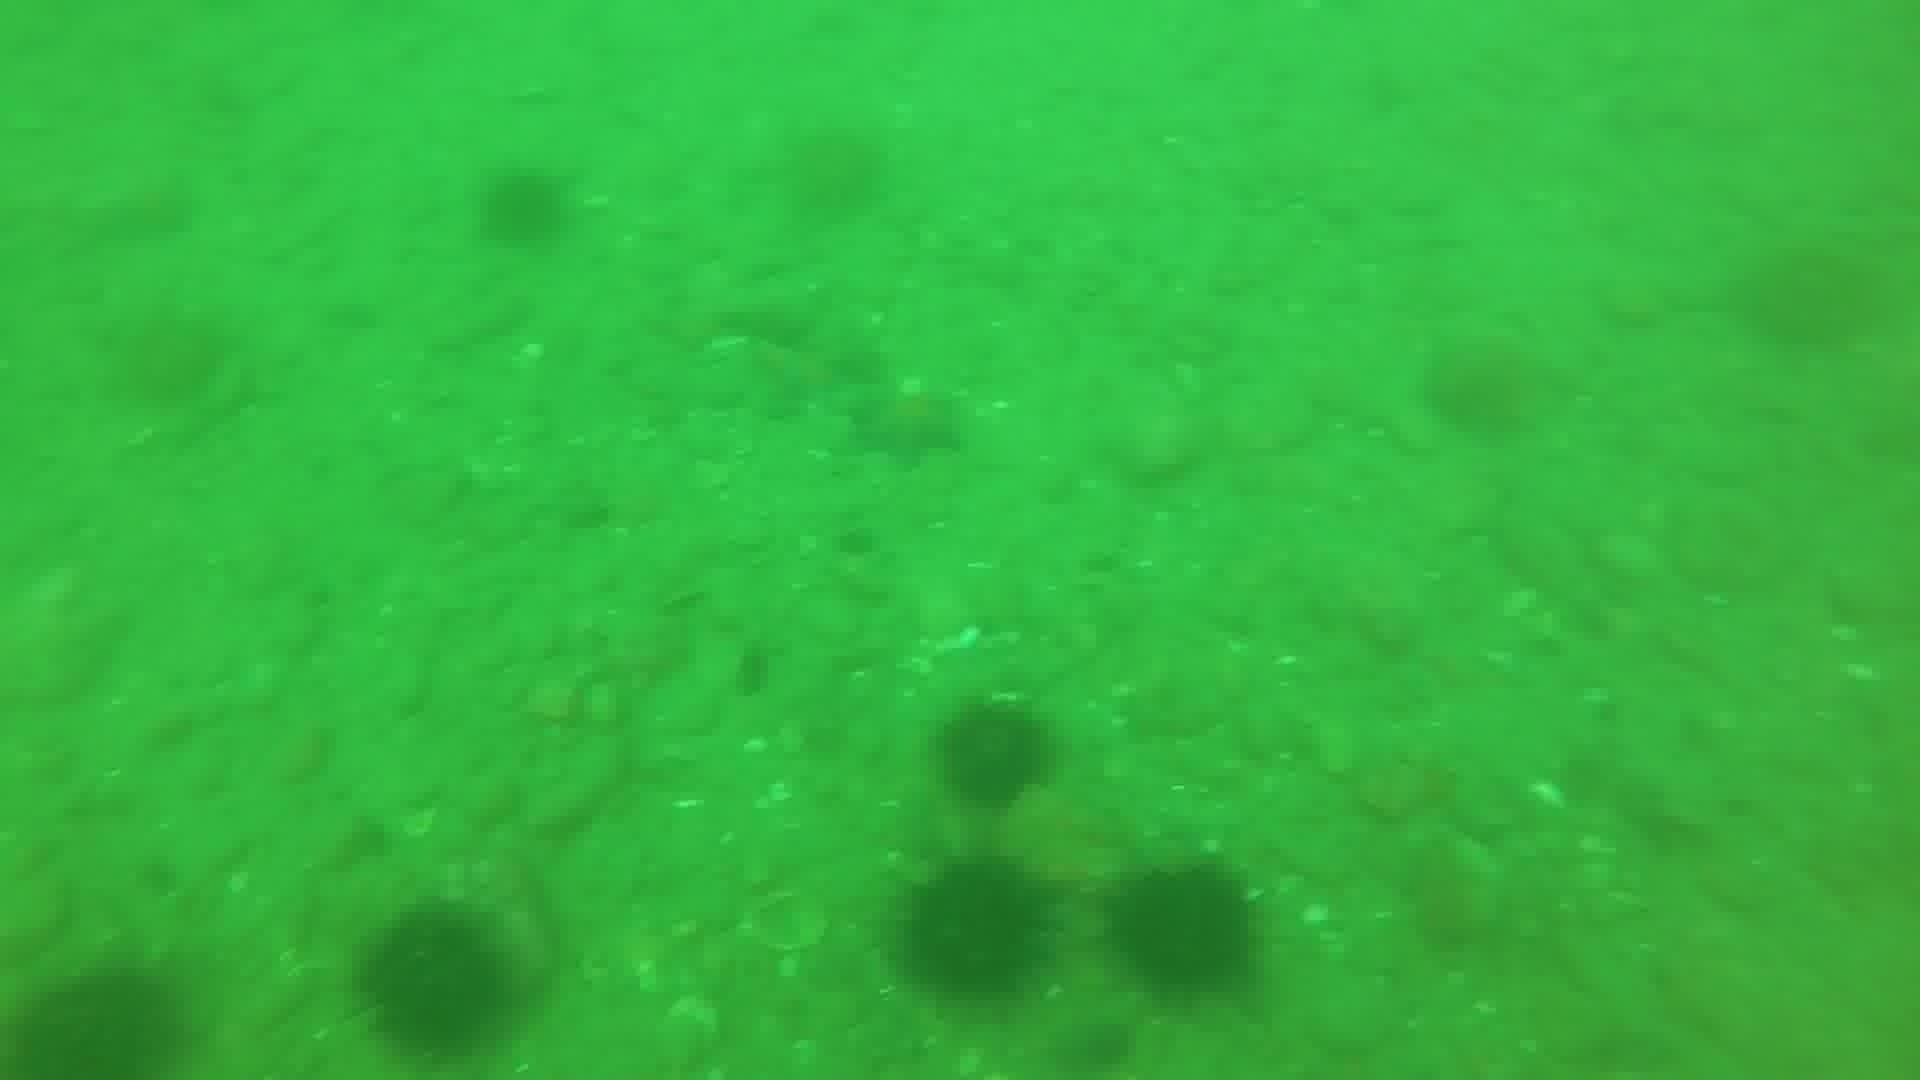echinus: (352, 902, 516, 1062), (891, 855, 1054, 1005), (1102, 858, 1263, 1004), (8, 960, 191, 1077), (1741, 243, 1884, 357), (931, 698, 1056, 814), (1418, 336, 1542, 442), (779, 123, 890, 223), (473, 165, 572, 251)
starfish: (843, 380, 971, 472), (737, 334, 858, 419)
